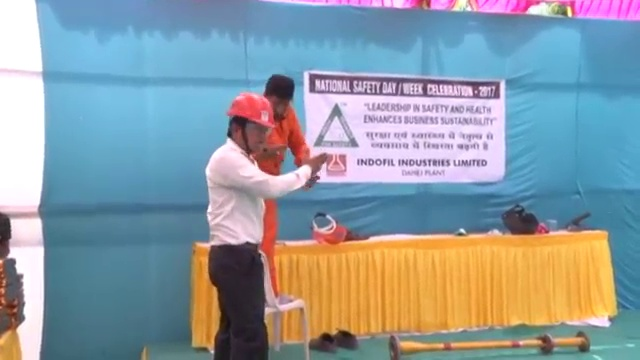helmet: (226, 91, 276, 130)
helmet_off: (266, 72, 297, 119)
helmet_on: (226, 91, 275, 155)
person: (199, 96, 314, 360), (256, 66, 316, 293)
